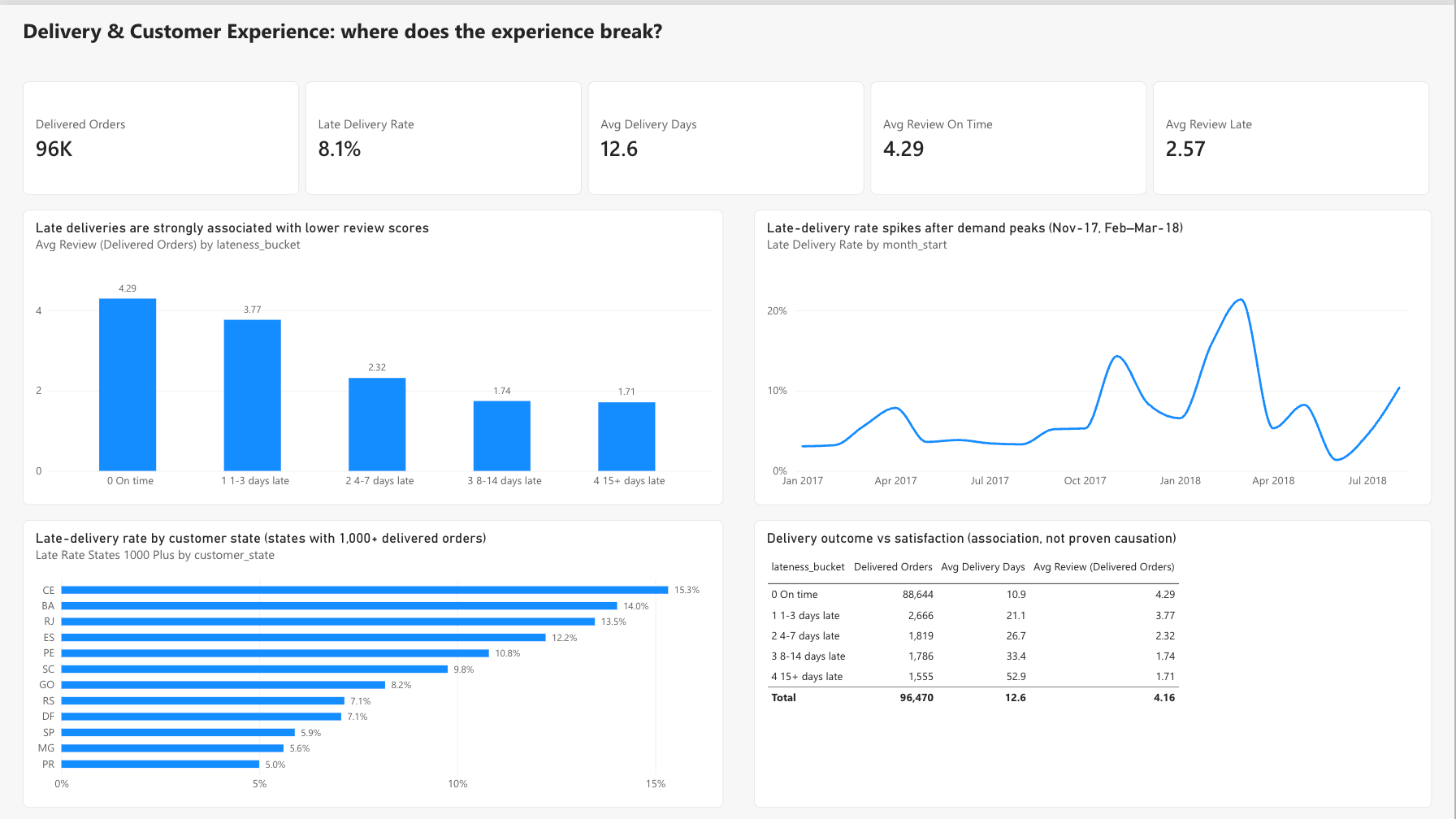

This screenshot's page, from the dashboard's own definition file:
{"tool":"powerbi","page":{"name":"Delivery & Experience","canvas":[1920,1080],"ordinal":2},"visuals":[{"type":"textbox","box":[30,15,1820,75],"z":0},{"type":"cardVisual","fields":{"Data":["orders.Delivered Orders","orders.Late Delivery Rate","orders.Avg Delivery Days","orders.Avg Review On Time","orders.Avg Review Late"]},"box":[30,100,1860,150],"z":1},{"type":"clusteredColumnChart","title":"Late deliveries are strongly associated with lower review scores","fields":{"Category":["orders.lateness_bucket"],"Y":["orders.Avg Review (Delivered Orders)"]},"box":[30,270,925,390],"z":2},{"type":"lineChart","title":"Late-delivery rate spikes after demand peaks (Nov-17, Feb–Mar-18)","fields":{"Category":["months 1.month_start"],"Y":["orders.Late Delivery Rate"]},"box":[995,270,895,390],"z":3},{"type":"clusteredBarChart","title":"Late-delivery rate by customer state (states with 1,000+ delivered orders)","fields":{"Category":["orders.customer_state"],"Y":["orders.Late Rate States 1000 Plus"]},"box":[30,680,925,380],"z":4},{"type":"tableEx","title":"Delivery outcome vs satisfaction (association, not proven causation)","fields":{"Values":["orders.lateness_bucket","orders.Delivered Orders","orders.Avg Delivery Days","orders.Avg Review (Delivered Orders)"]},"box":[995,680,895,380],"z":5}]}

Visuals, with their boxes in screenshot pixels (x1, y1, x2, y2), scaled from the page's 1920x1080 canvas onto the 1456x819 screenshot:
textbox: (23, 11, 1403, 68)
cardVisual - orders.Delivered Orders x orders.Late Delivery Rate: (23, 76, 1433, 190)
"Late deliveries are strongly associated with lower review scores" clusteredColumnChart: (23, 205, 724, 500)
"Late-delivery rate spikes after demand peaks (Nov-17, Feb–Mar-18)" lineChart: (755, 205, 1433, 500)
"Late-delivery rate by customer state (states with 1,000+ delivered orders)" clusteredBarChart: (23, 516, 724, 804)
"Delivery outcome vs satisfaction (association, not proven causation)" tableEx: (755, 516, 1433, 804)
